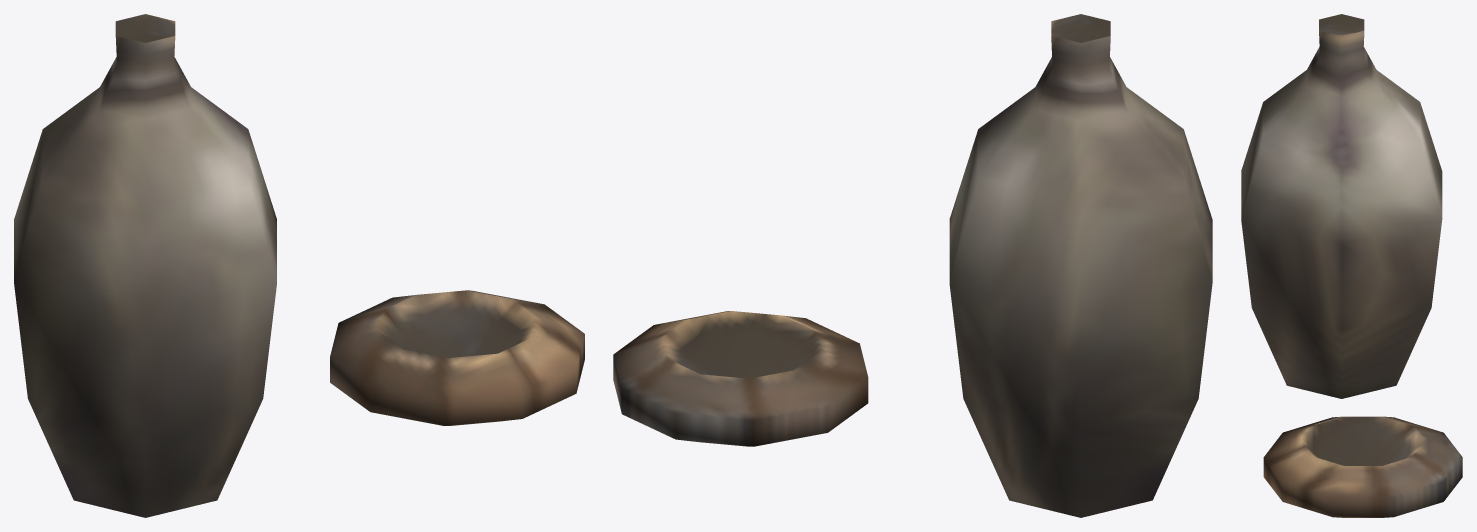
File: Battle04_Cube_21.FBX
3 views of the same model, side by side, from view 1: azimuth 30°, elevation 25°; view 2: azimuth 150°, elevation 25°; view 3: azimuth 270°, elevation 25° (orthographic). The views are drawn at different scales.
Visible parts, largest first — view 1: Battle04_Cube_21; view 2: Battle04_Cube_21; view 3: Battle04_Cube_21.
Part boxes in pixels (x1,y1,x2,y2): Battle04_Cube_21: (14, 14, 584, 517); Battle04_Cube_21: (613, 14, 1212, 517); Battle04_Cube_21: (1241, 14, 1462, 517).
Bounding box in the file's own units: 0.7875 × 0.6151 × 0.3501.
